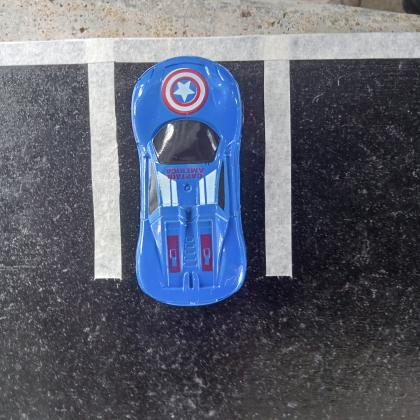Car: (132, 57, 246, 306)
